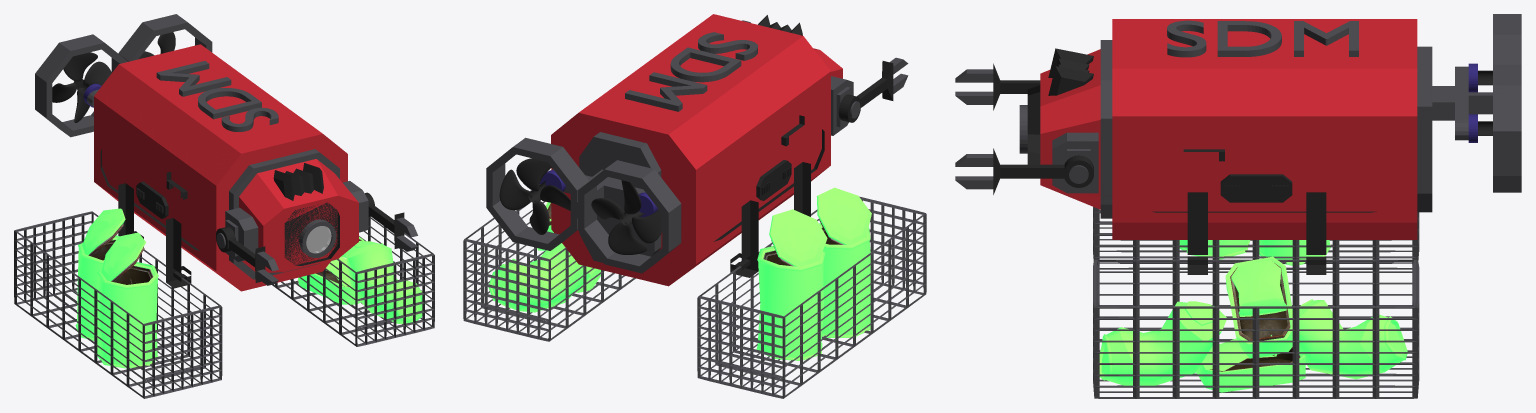
The model's file is collector_manual_with_2cans.glb.
3 renders of one model, left to right at view 1: azimuth 30°, elevation 25°; view 2: azimuth 150°, elevation 25°; view 3: azimuth 270°, elevation 25°, orthographic. The views are drawn at different scales.
Parts seen in each view (by area): view 1: main_body, neck, Can_02_GEO.006, Can_02_GEO, camera_lens; view 2: main_body, neck, Can_02_GEO.006, Circle.002, Can_02_GEO; view 3: main_body, neck, Can_02_GEO.006, Can_02_GEO, Circle.002.
Boxes of the visible parts, x1,y1,x2,y2 form: main_body: [52, 32, 404, 291]; neck: [14, 14, 434, 398]; Can_02_GEO.006: [75, 208, 425, 368]; Can_02_GEO: [88, 224, 361, 286]; camera_lens: [306, 226, 331, 253]; main_body: [499, 14, 893, 286]; neck: [463, 20, 926, 398]; Can_02_GEO.006: [488, 187, 871, 360]; Circle.002: [540, 170, 657, 217]; Can_02_GEO: [547, 203, 844, 266]; main_body: [993, 19, 1492, 274]; neck: [955, 14, 1521, 398]; Can_02_GEO.006: [1099, 240, 1407, 392]; Can_02_GEO: [1210, 263, 1300, 371]; Circle.002: [1468, 63, 1477, 142].
Bounding box in the file's own units: 4.09 × 2.96 × 5.53.
6 materials, 6 textured.
